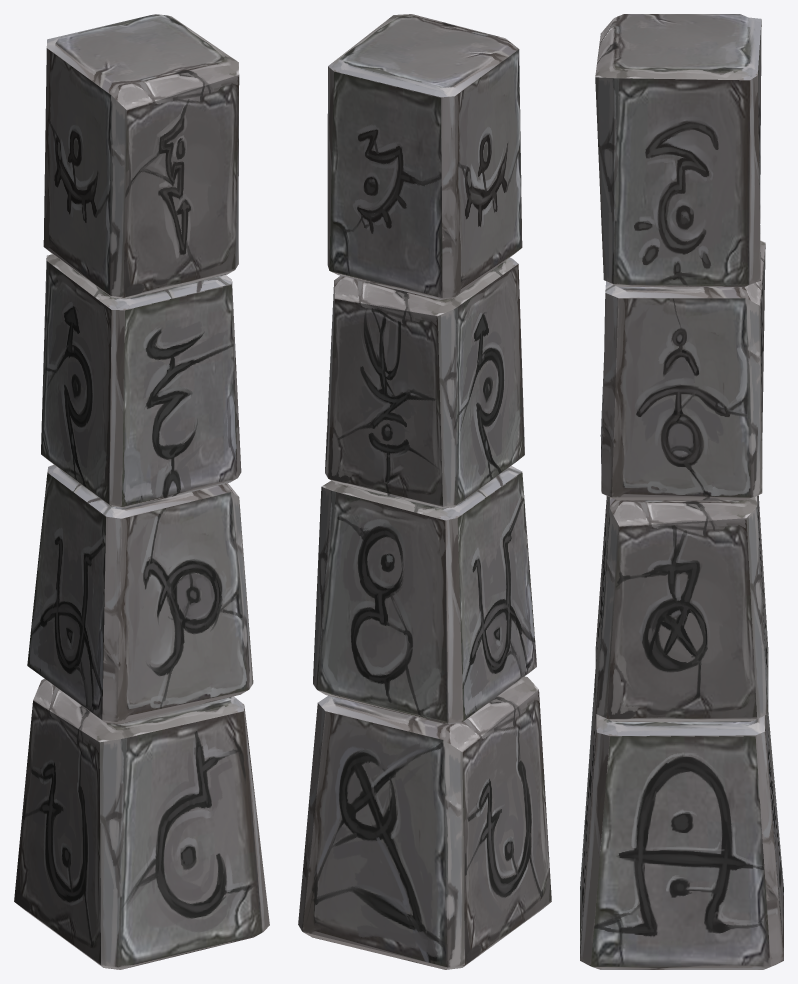
File: odelisk_all.FBX
3 renders of one model, left to right at view 1: azimuth 30°, elevation 25°; view 2: azimuth 150°, elevation 25°; view 3: azimuth 270°, elevation 25°, orthographic. The views are drawn at different scales.
Visible parts, largest first — view 1: lock007, lock1, lock006, lock005; view 2: lock007, lock1, lock006, lock005; view 3: lock007, lock1, lock006, lock005.
Part boxes in pixels (left/top/right/bottom): lock007: left=14, top=678, right=269, bottom=969; lock1: left=43, top=14, right=239, bottom=299; lock006: left=27, top=464, right=253, bottom=723; lock005: left=41, top=254, right=241, bottom=508; lock007: left=298, top=676, right=551, bottom=969; lock1: left=327, top=14, right=522, bottom=299; lock006: left=313, top=466, right=536, bottom=724; lock005: left=325, top=257, right=524, bottom=508; lock007: left=580, top=669, right=783, bottom=969; lock1: left=595, top=14, right=761, bottom=286; lock006: left=595, top=495, right=768, bottom=721; lock005: left=600, top=240, right=765, bottom=500.
Size of the model in its own units: 209 by 1033 by 215.
